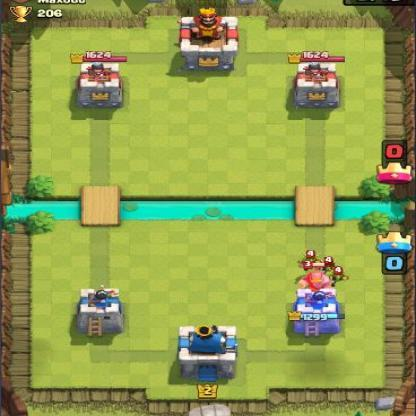enemy_goblin: (296, 250, 323, 272), (324, 266, 350, 288), (316, 256, 340, 278)
enemy_knight: (295, 271, 331, 293)
